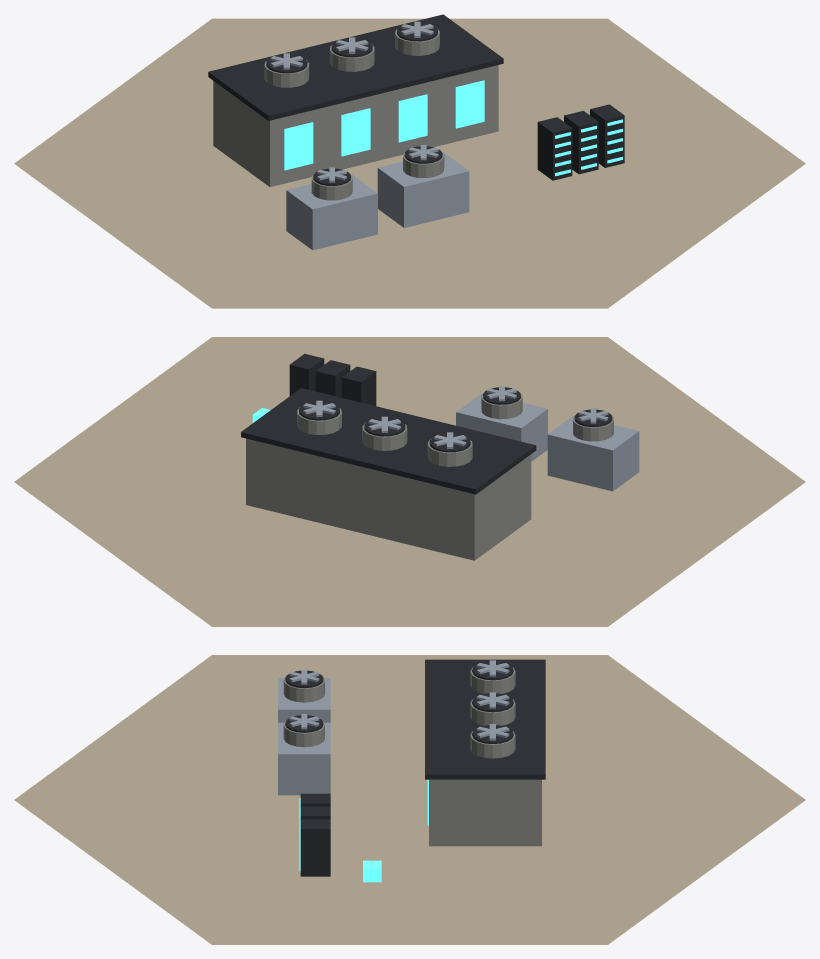
Rendered from district_datacenter_1.fbx.
3 renders of one model, top to bottom at view 1: azimuth 30°, elevation 25°; view 2: azimuth 150°, elevation 25°; view 3: azimuth 270°, elevation 25°, orthographic.
Visible parts, largest first — view 1: district_datacenter_1; view 2: district_datacenter_1; view 3: district_datacenter_1.
Part boxes in pixels (bbox=[...]): district_datacenter_1: bbox=[14, 14, 805, 308]; district_datacenter_1: bbox=[14, 337, 805, 626]; district_datacenter_1: bbox=[14, 655, 805, 944].
Bounding box in the file's own units: 182 × 27.1 × 210.
